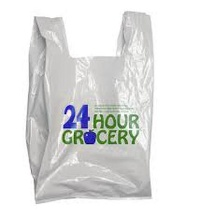plastic_bag: (24, 6, 159, 209)
